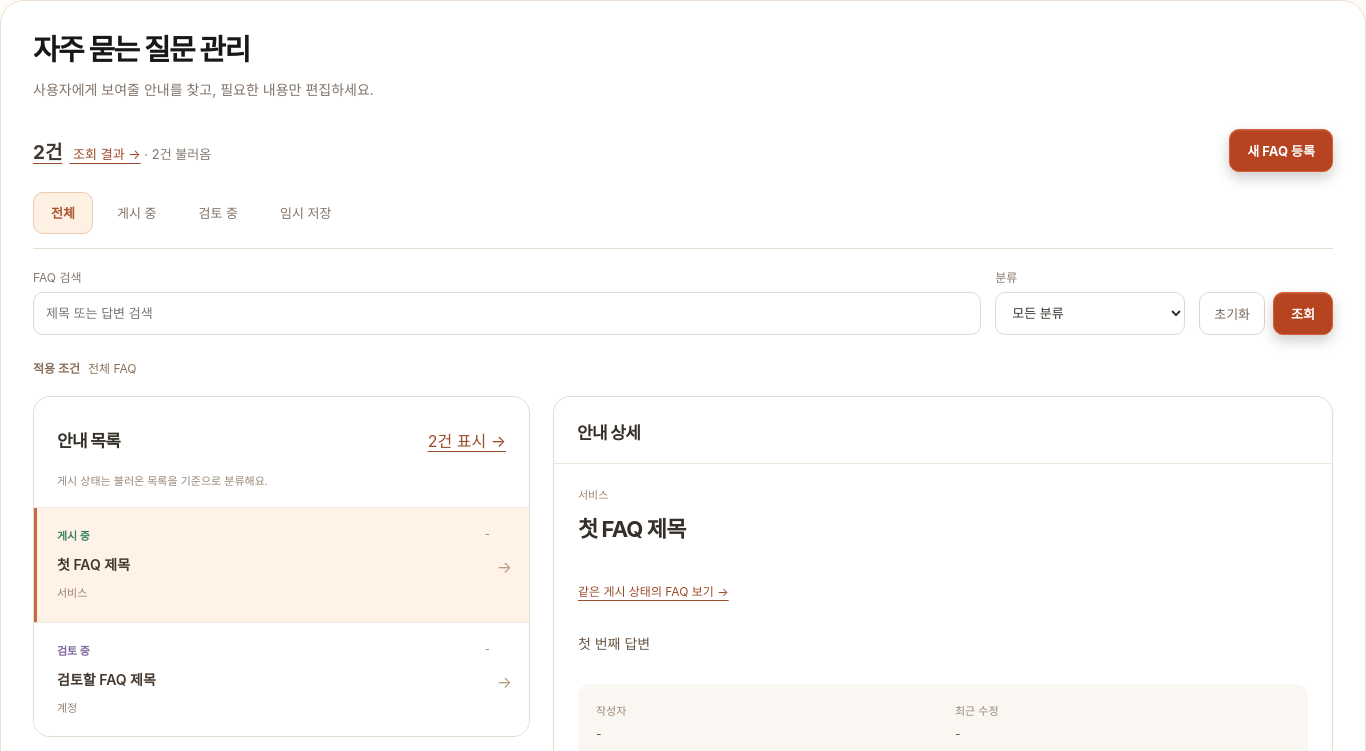
FAQ local status filtering exposes the pending guide and fetches only selected details
Click the button "검토 중" at (218, 213), box left=180, top=192, right=256, bottom=234
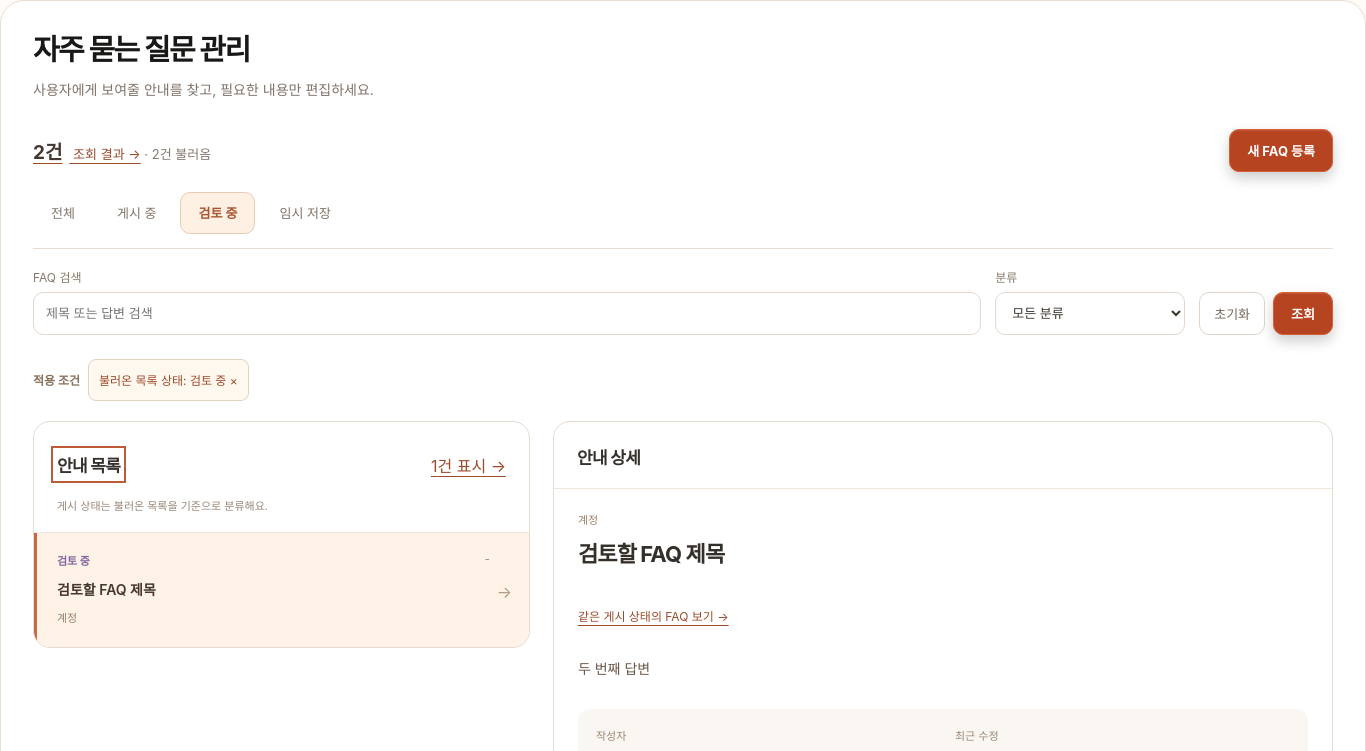
Result: the heading "검토할 FAQ 제목" is shown at left=578, top=541, right=724, bottom=567
Result: the button "첫 FAQ 제목" is gone
